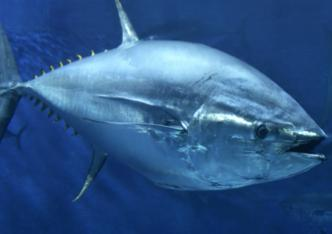Scombridae -Tunas-: (0, 0, 327, 203)
